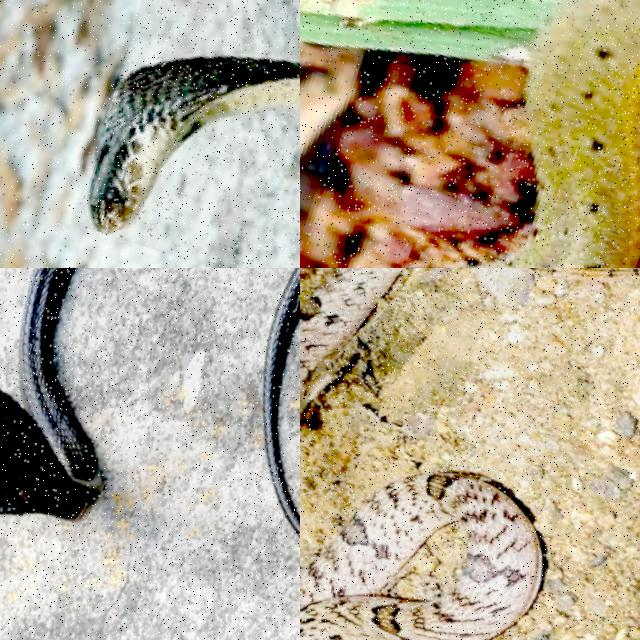Calliophis maculiceps: (463, 0, 639, 267)
Calloselasma rhodostoma: (300, 472, 541, 639)
Naja siamensis: (88, 55, 299, 233), (0, 268, 103, 521)
